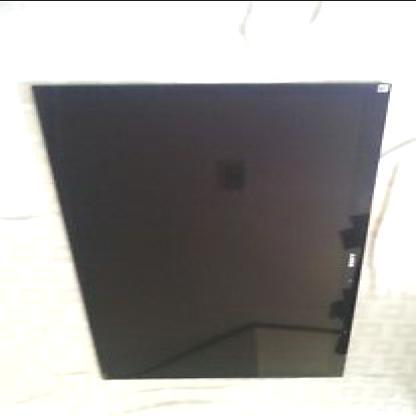TV: (24, 53, 394, 391)
